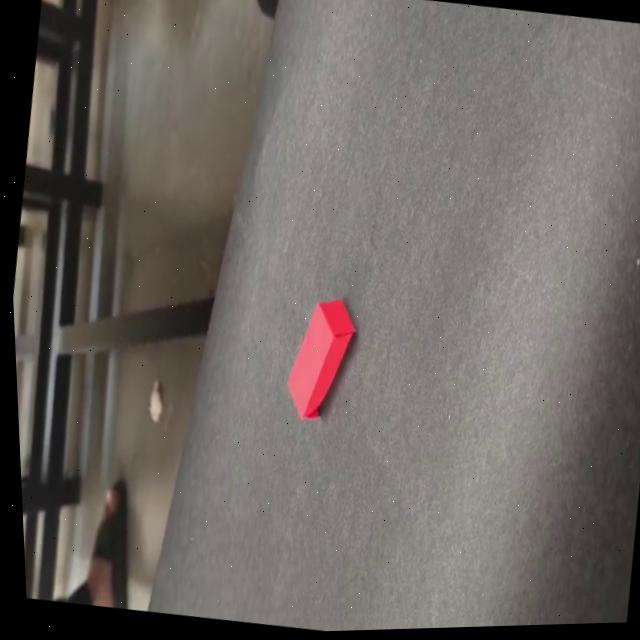red block: (278, 289, 365, 425)
